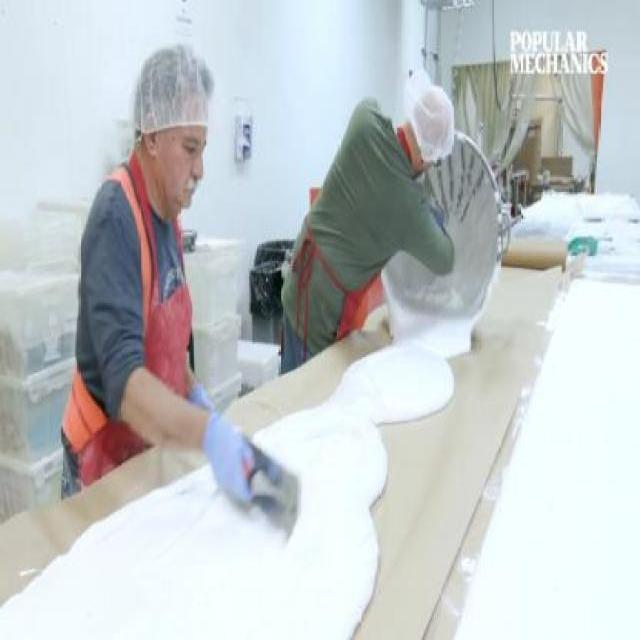hairnet: (132, 41, 215, 131), (401, 76, 453, 162)
